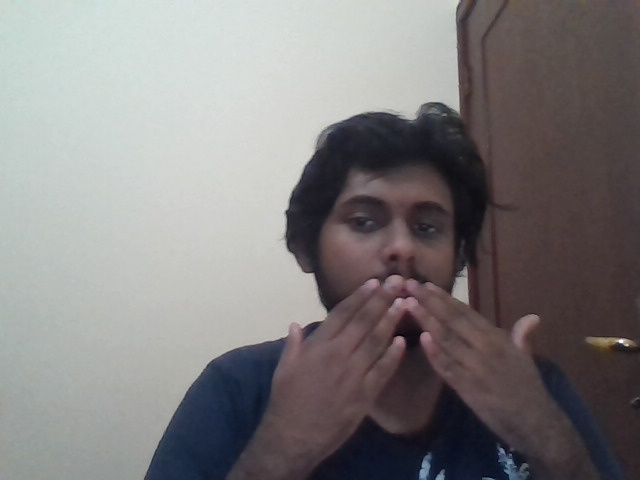thankyou: (279, 274, 541, 410)
